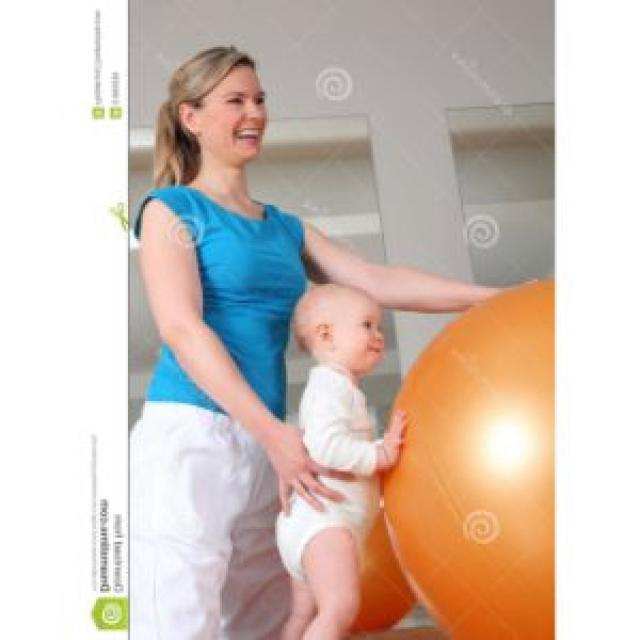adult: (122, 36, 298, 640)
child: (256, 273, 427, 640)
